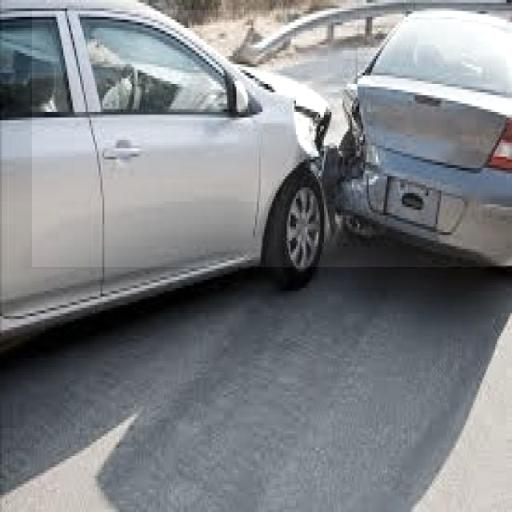小汽车撞小汽车: (32, 10, 512, 267)
